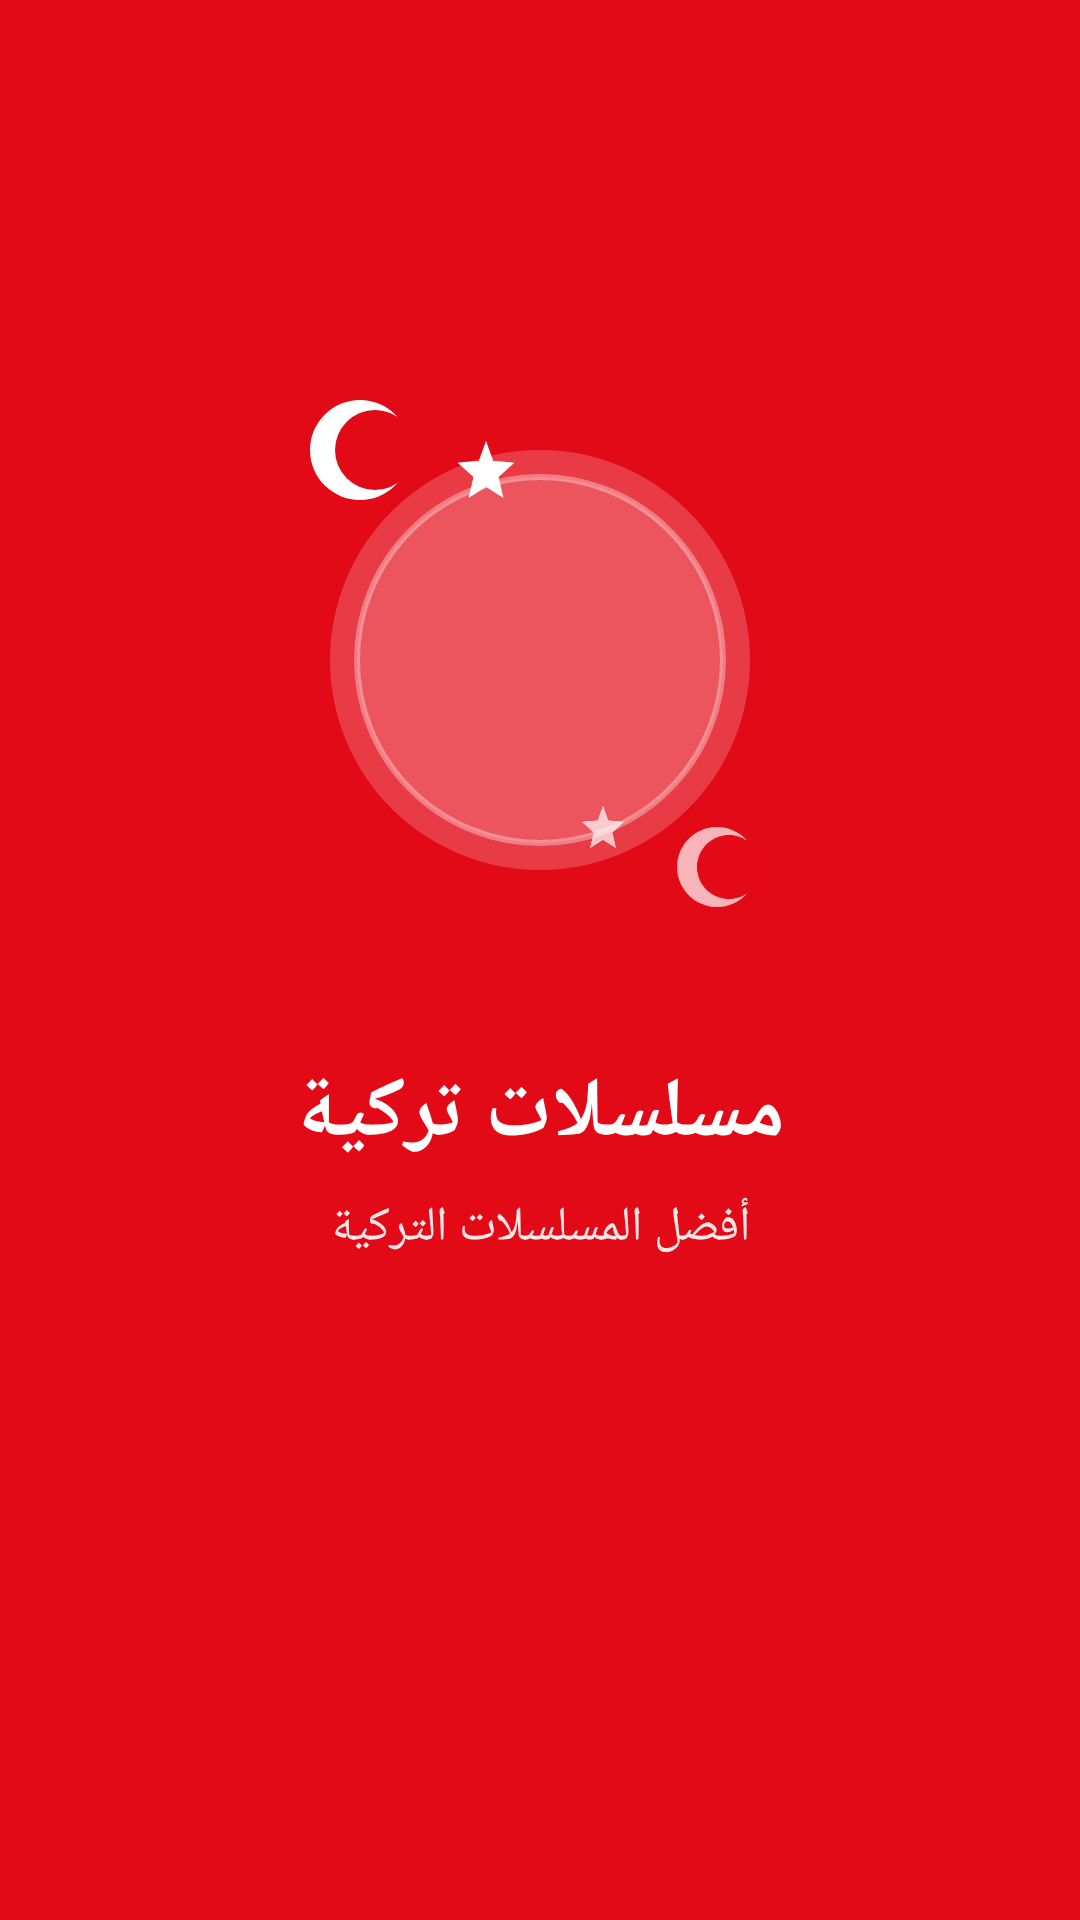

Where to tap for icons on this 1080x1920 app screen, as [x,y]:
نجمة: [486,471], [603,828]
هلال: [354,450], [712,867]
